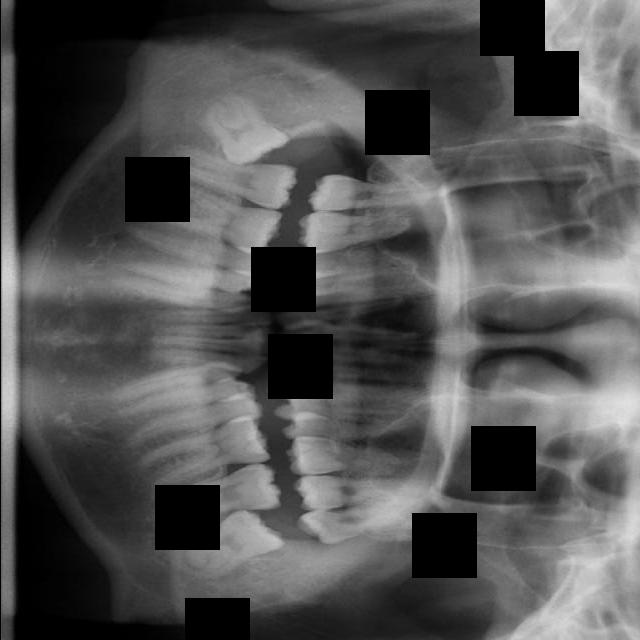73: (22, 620, 32, 629)
BioHorizons Implant: (293, 476, 427, 511)
BioLife Implant: (296, 502, 412, 547)
Biomet 3i Implant: (177, 496, 289, 588)
Blue Sky Bio Implant: (142, 459, 283, 534)
Caries: (306, 167, 439, 214)
Implant: (161, 130, 299, 214)
Keystone Dental Implant: (189, 82, 290, 184)
